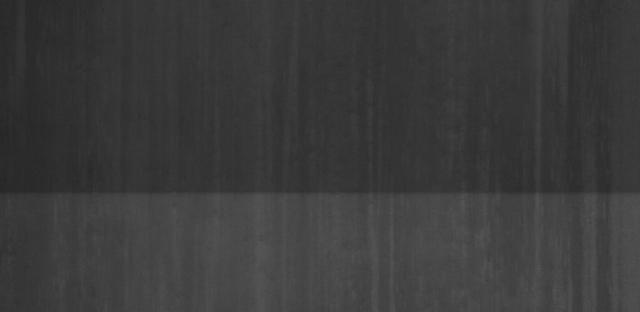welding_line: (1, 176, 640, 206)
